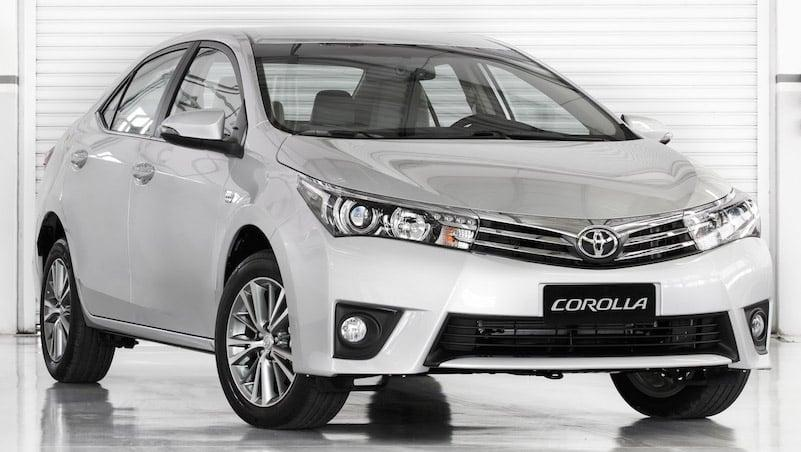windshield: (248, 39, 644, 153)
